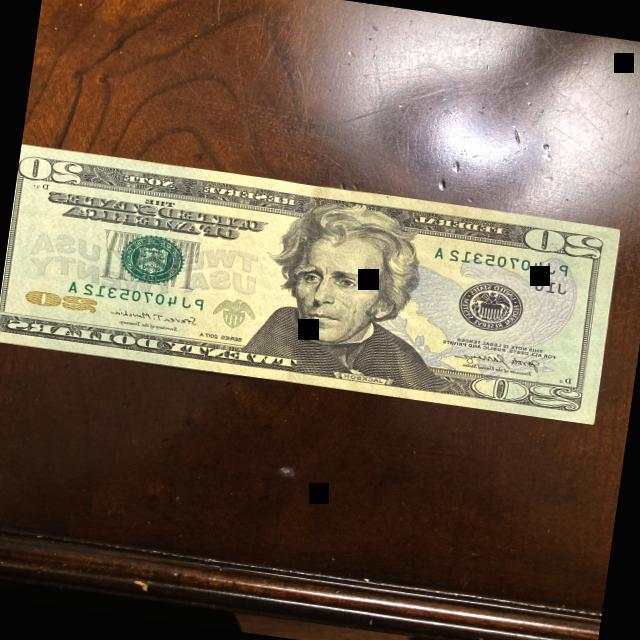twenty: (0, 143, 623, 426)
